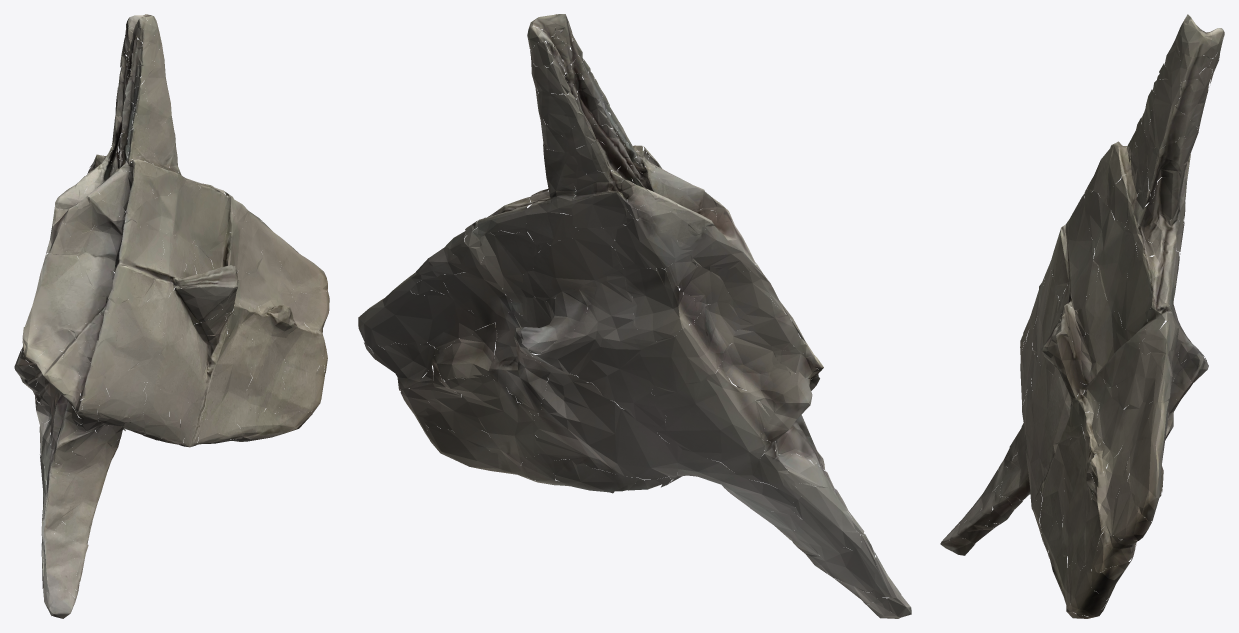
Rendered from sunfish.gltf.
3 renders of one model, left to right at view 1: azimuth 30°, elevation 25°; view 2: azimuth 150°, elevation 25°; view 3: azimuth 270°, elevation 25°, orthographic. The views are drawn at different scales.
Visible parts, largest first — view 1: Mesh_0.001; view 2: Mesh_0.001; view 3: Mesh_0.001.
Part boxes in pixels (<box>): Mesh_0.001: <box>14,14,329,618</box>; Mesh_0.001: <box>358,14,911,618</box>; Mesh_0.001: <box>940,14,1224,618</box>.
Bounding box in the file's own units: 0.1611 × 0.2153 × 0.0862.
Materials: 1 (1 with a texture image).
